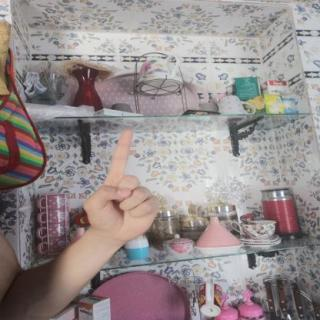BAA: (78, 122, 170, 250)
